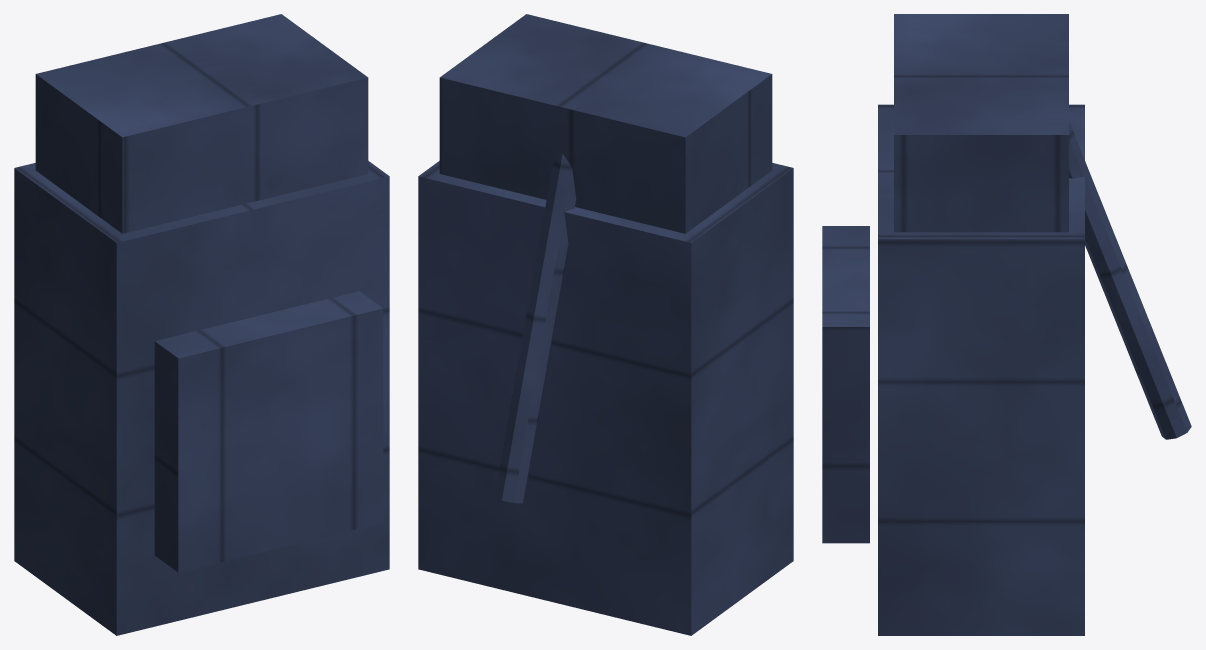
The model's file is luggage_bag.glb.
3 renders of one model, left to right at view 1: azimuth 30°, elevation 25°; view 2: azimuth 150°, elevation 25°; view 3: azimuth 270°, elevation 25°, orthographic.
Parts seen in each view (by area): view 1: luggage_bag; view 2: luggage_bag; view 3: luggage_bag.
Part boxes in pixels (bbox=[...]): luggage_bag: bbox=[14, 14, 389, 635]; luggage_bag: bbox=[418, 14, 793, 635]; luggage_bag: bbox=[822, 14, 1191, 635].
Size of the model in its own units: 0.4 by 0.685 by 0.4643.
1 material, 1 textured.
